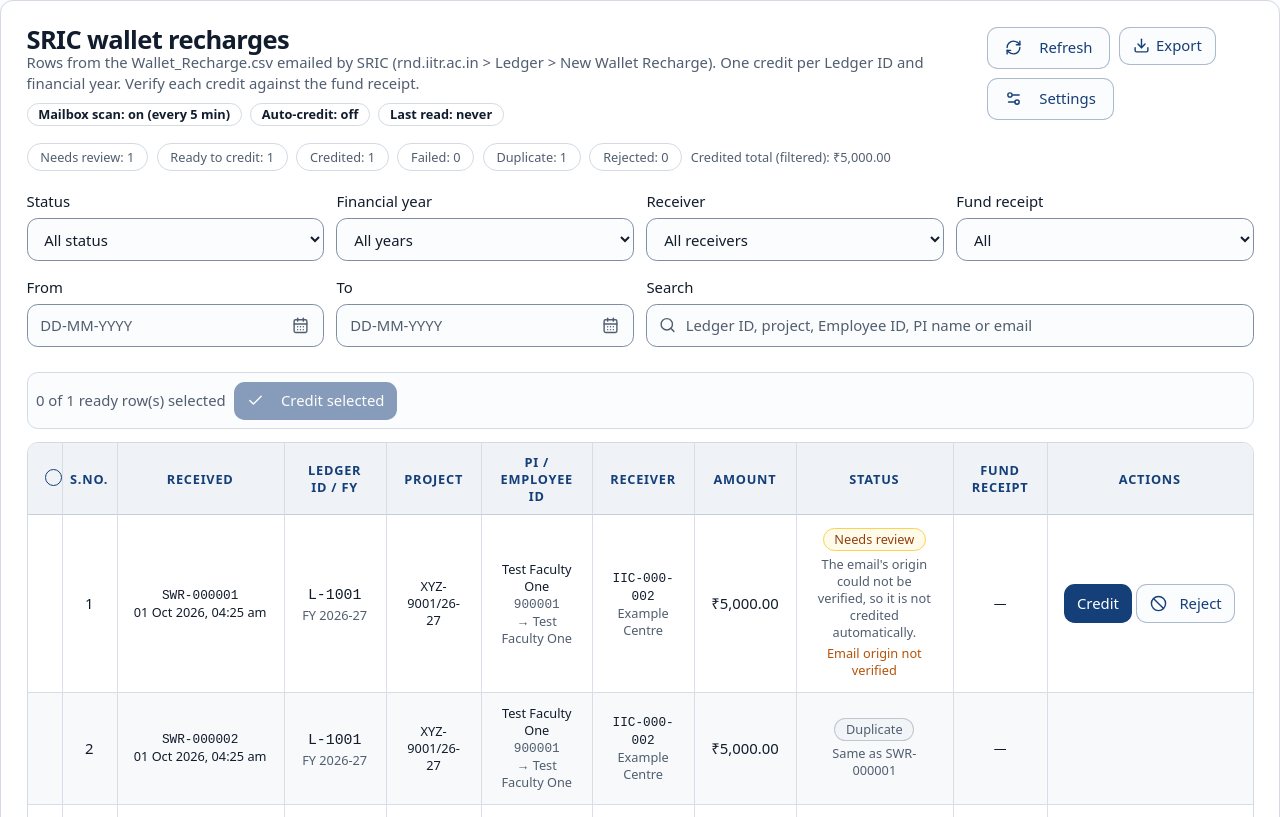
Scenario: AdminSricRecharges › edits the peak booking pause in Settings
The width and height of the screenshot is (1280, 817).
Click the button "Settings": (1050, 99) [987,78,1114,120]
(page scrolled)
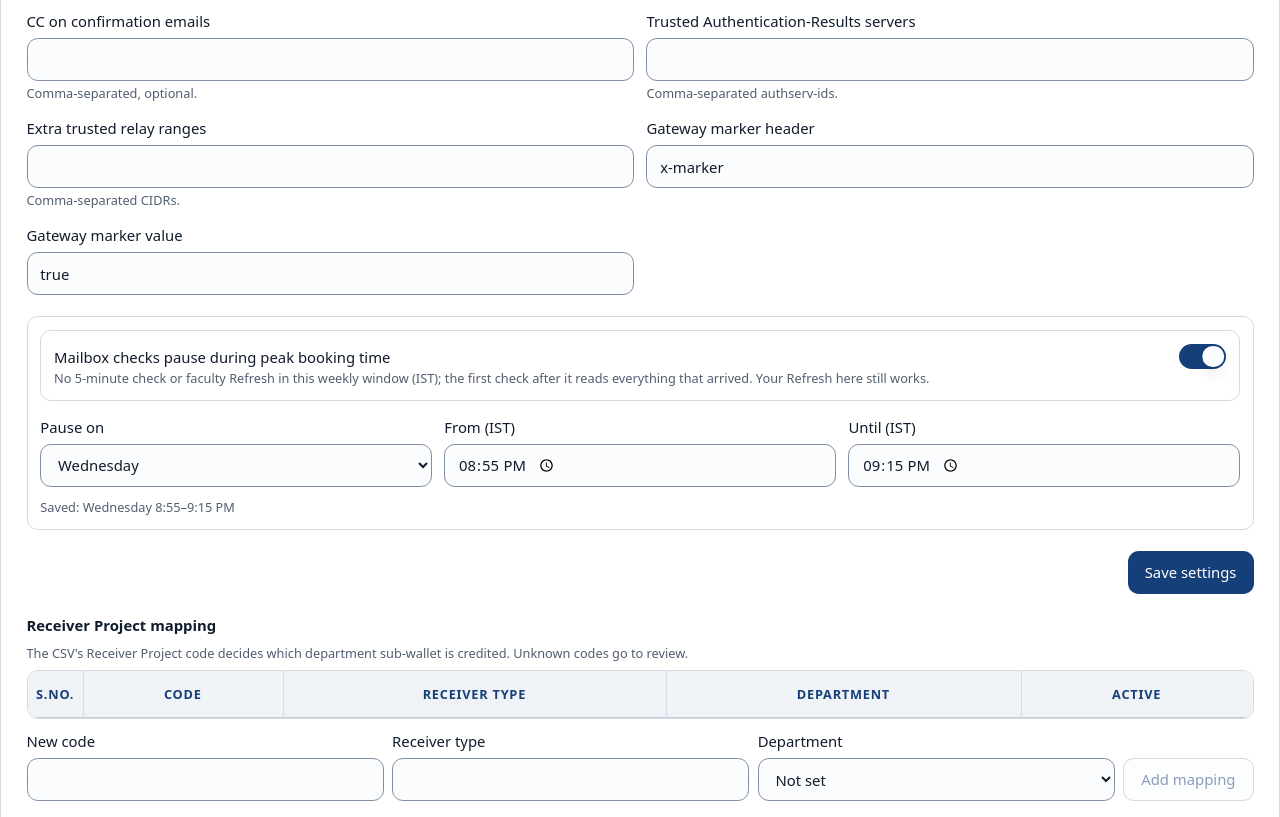
Check: the text "Mailbox checks pause during peak booking time" is shown, box [54,347,390,367]
Check: the text "Saved: Wednesday 8:55–9:15 PM" is shown, box [40,498,235,516]
Check: the dropdown labelled "Pause on" shows "Wednesday"
Select "Friday" in the dropdown labelled "Pause on": (236, 465) [40,444,432,487]
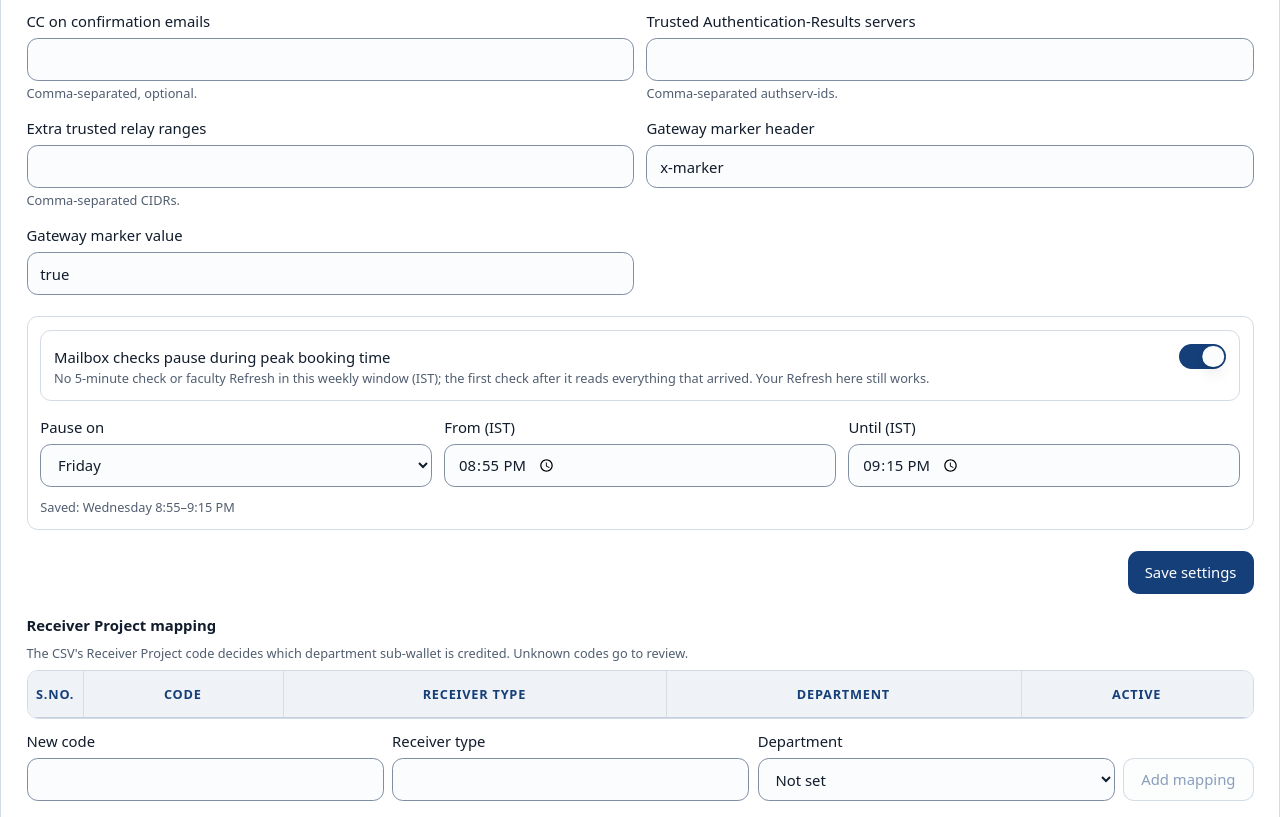
Replace the text in the time field labelled "Until (IST)" with "21:20": (1044, 465) [848,444,1240,487]
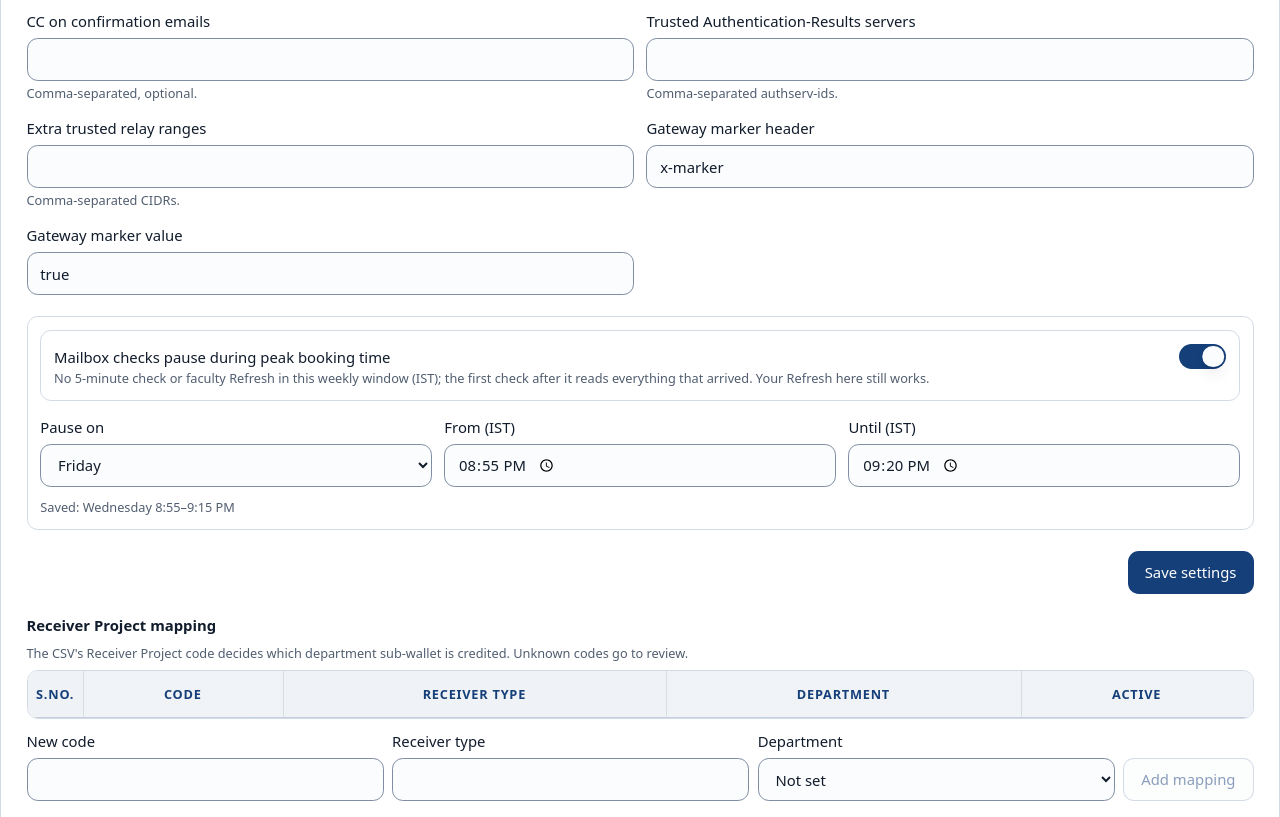
Click the button "Save settings": (1191, 573) [1128,551,1254,594]
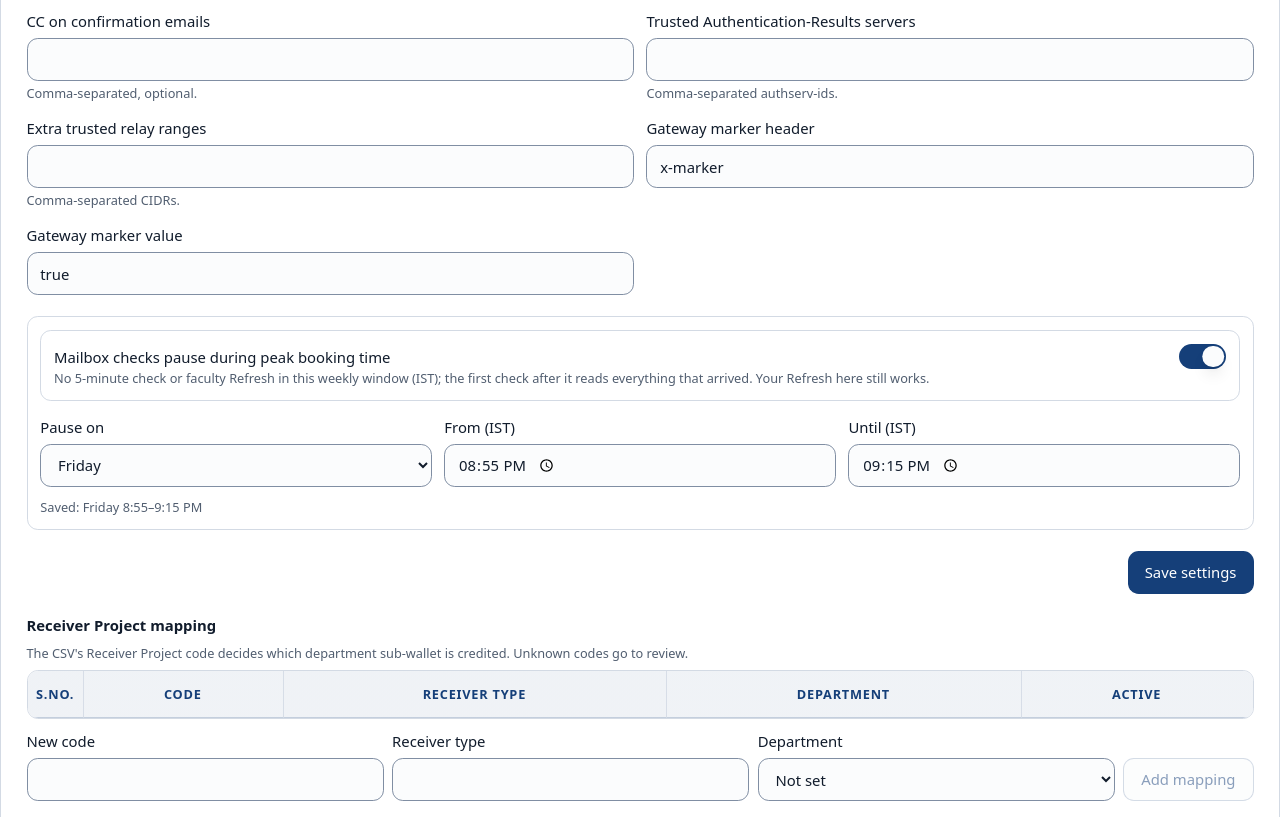
Check: the text "Saved: Friday 8:55–9:15 PM" is shown, box [40,498,202,516]
